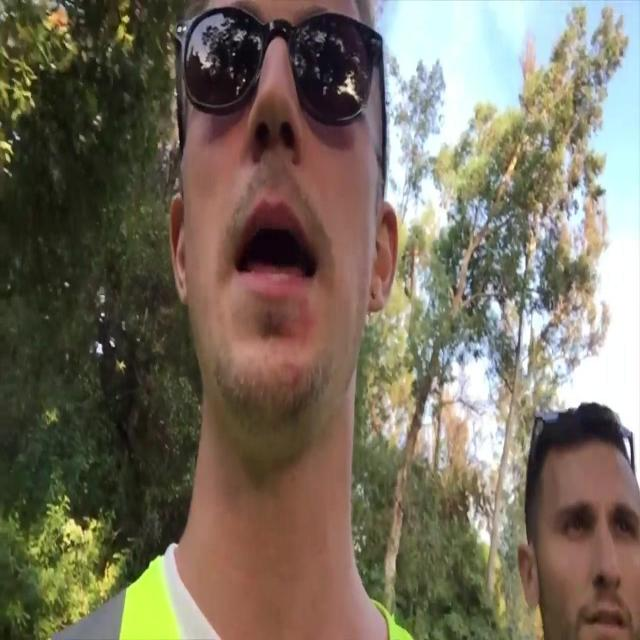Vest: (48, 554, 418, 639)
